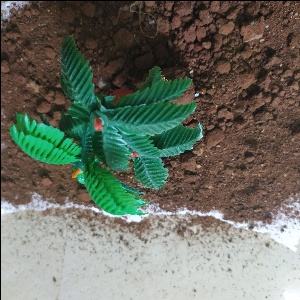plant: (15, 37, 203, 222)
